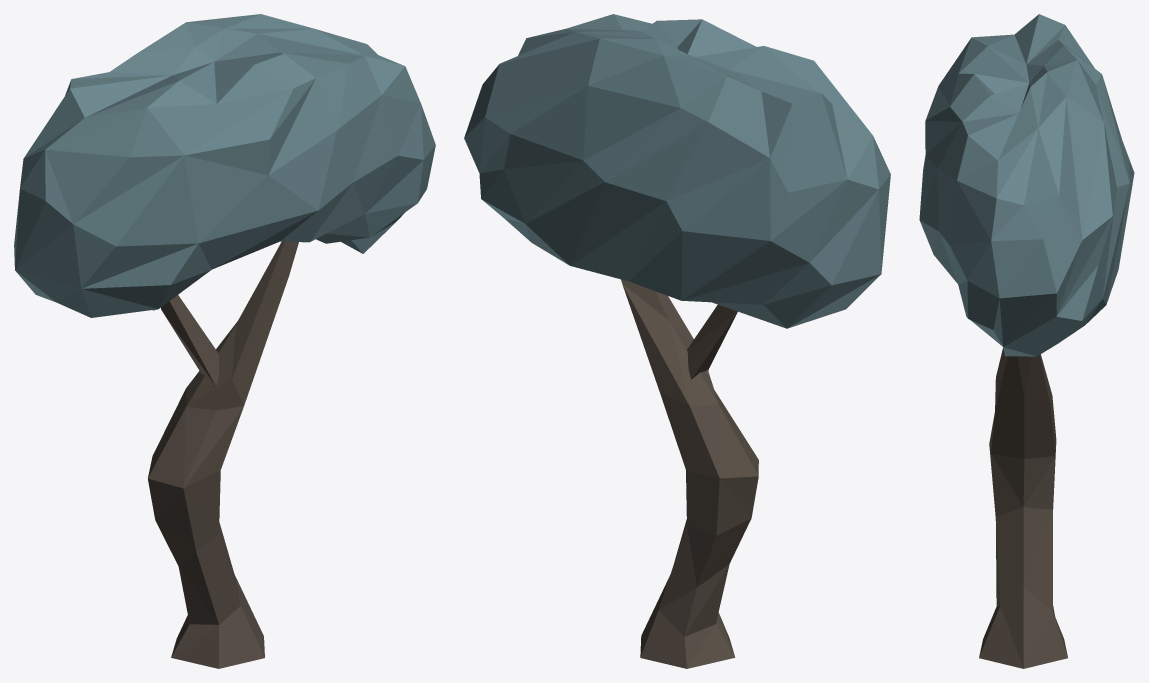
Rendered from Tree1.fbx.
The picture shows the model from 3 angles, left to right: view 1: azimuth 30°, elevation 25°; view 2: azimuth 150°, elevation 25°; view 3: azimuth 270°, elevation 25°; orthographic projection. The views are drawn at different scales.
Parts seen in each view (by area): view 1: Leaves, Trunk; view 2: Leaves, Trunk; view 3: Leaves, Trunk.
Boxes of the visible parts, bbox=[...] form: Leaves: bbox=[14, 14, 435, 317]; Trunk: bbox=[147, 241, 298, 668]; Leaves: bbox=[464, 14, 890, 328]; Trunk: bbox=[621, 279, 758, 668]; Leaves: bbox=[919, 14, 1134, 356]; Trunk: bbox=[979, 347, 1067, 668].
Bounding box in the file's own units: 241 × 348 × 115.
